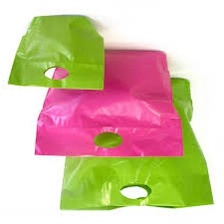plastic_bag: (46, 70, 218, 219), (26, 44, 190, 164), (9, 7, 111, 96)
